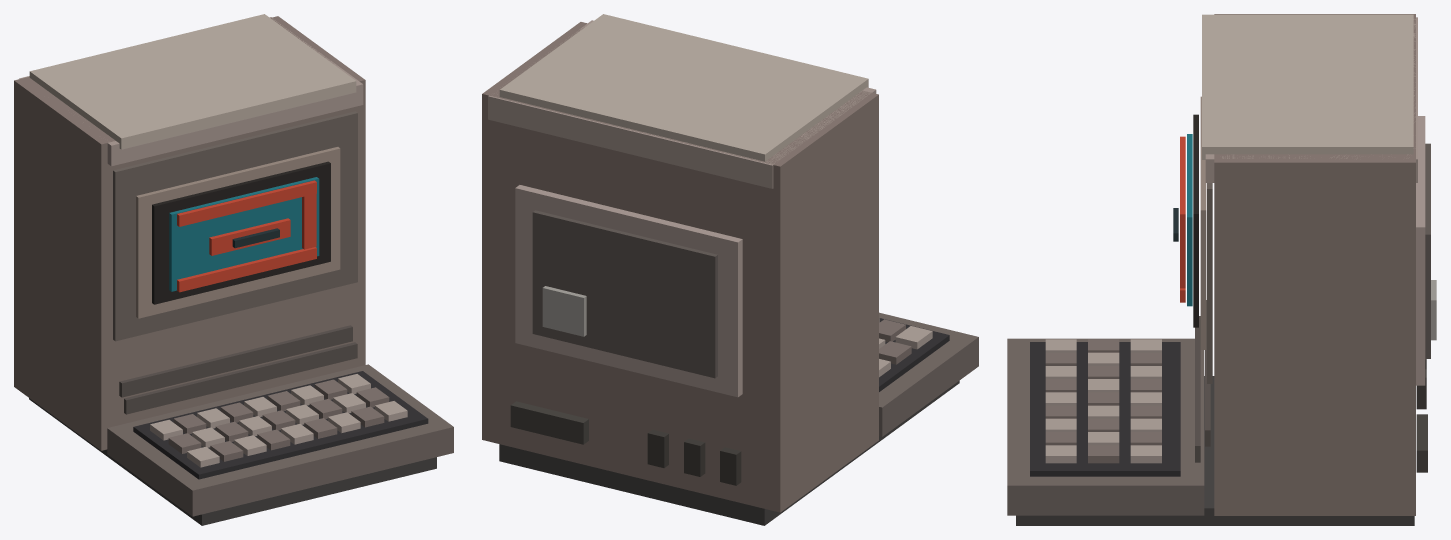
Rendered from CMU3DSecurityCRTTerminal.glb.
3 views of the same model, side by side, from view 1: azimuth 30°, elevation 25°; view 2: azimuth 150°, elevation 25°; view 3: azimuth 270°, elevation 25° (orthographic). The views are drawn at different scales.
Parts seen in each view (by area): view 1: terminal main shell, top cap highlight, monitor front bezel, keyboard base, lower CRT face slope (×2), monitor inner raised rim, CRT display, screen black surround, red security display (×4), dark keyboard tray, upper monitor cap, terminal foot; view 2: terminal main shell, top cap highlight, rear service hatch, rear service hatch border, upper monitor cap, terminal foot, keyboard base, rear lower vent (×3), rear connector recess, rear pale service label, dark keyboard tray, separate keyboard key; view 3: terminal main shell, top cap highlight, keyboard base, dark keyboard tray, terminal foot, rear service hatch border, separate keyboard key (×3), monitor inner raised rim, lower CRT face slope (×2), rear service hatch, screen black surround, monitor front bezel (+4 smaller).
Boxes of the visible parts, x1,y1,x2,y2 form: terminal main shell: (14, 16, 365, 450); top cap highlight: (29, 14, 356, 149); monitor front bezel: (113, 111, 357, 341); keyboard base: (107, 364, 453, 516); lower CRT face slope (×2): (119, 325, 357, 414); monitor inner raised rim: (136, 147, 340, 318); CRT display: (169, 177, 319, 291); screen black surround: (152, 161, 330, 304); red security display (×4): (177, 180, 316, 292); dark keyboard tray: (133, 371, 428, 479); upper monitor cap: (19, 17, 363, 166); terminal foot: (29, 398, 436, 525); terminal main shell: (482, 22, 878, 512); top cap highlight: (499, 14, 868, 161); rear service hatch: (532, 210, 717, 378); rear service hatch border: (515, 185, 742, 397); upper monitor cap: (488, 20, 876, 188); terminal foot: (499, 380, 959, 525); keyboard base: (879, 312, 978, 436); rear lower vent (×3): (647, 429, 741, 485); rear connector recess: (510, 401, 588, 444); rear pale service label: (542, 286, 586, 336); dark keyboard tray: (879, 318, 949, 391); separate keyboard key: (895, 326, 932, 349); terminal main shell: (1214, 14, 1415, 515); top cap highlight: (1202, 14, 1413, 159); keyboard base: (1007, 338, 1204, 515); dark keyboard tray: (1030, 342, 1180, 476); terminal foot: (1016, 376, 1414, 525); rear service hatch border: (1416, 116, 1425, 385); separate keyboard key (×3): (1045, 445, 1161, 463); monitor inner raised rim: (1200, 96, 1206, 349); lower CRT face slope (×2): (1195, 300, 1210, 462); rear service hatch: (1425, 143, 1430, 358); screen black surround: (1193, 114, 1198, 327); monitor front bezel: (1207, 183, 1212, 383).
Size of the model in its own units: 0.562 by 0.668 by 0.686.
